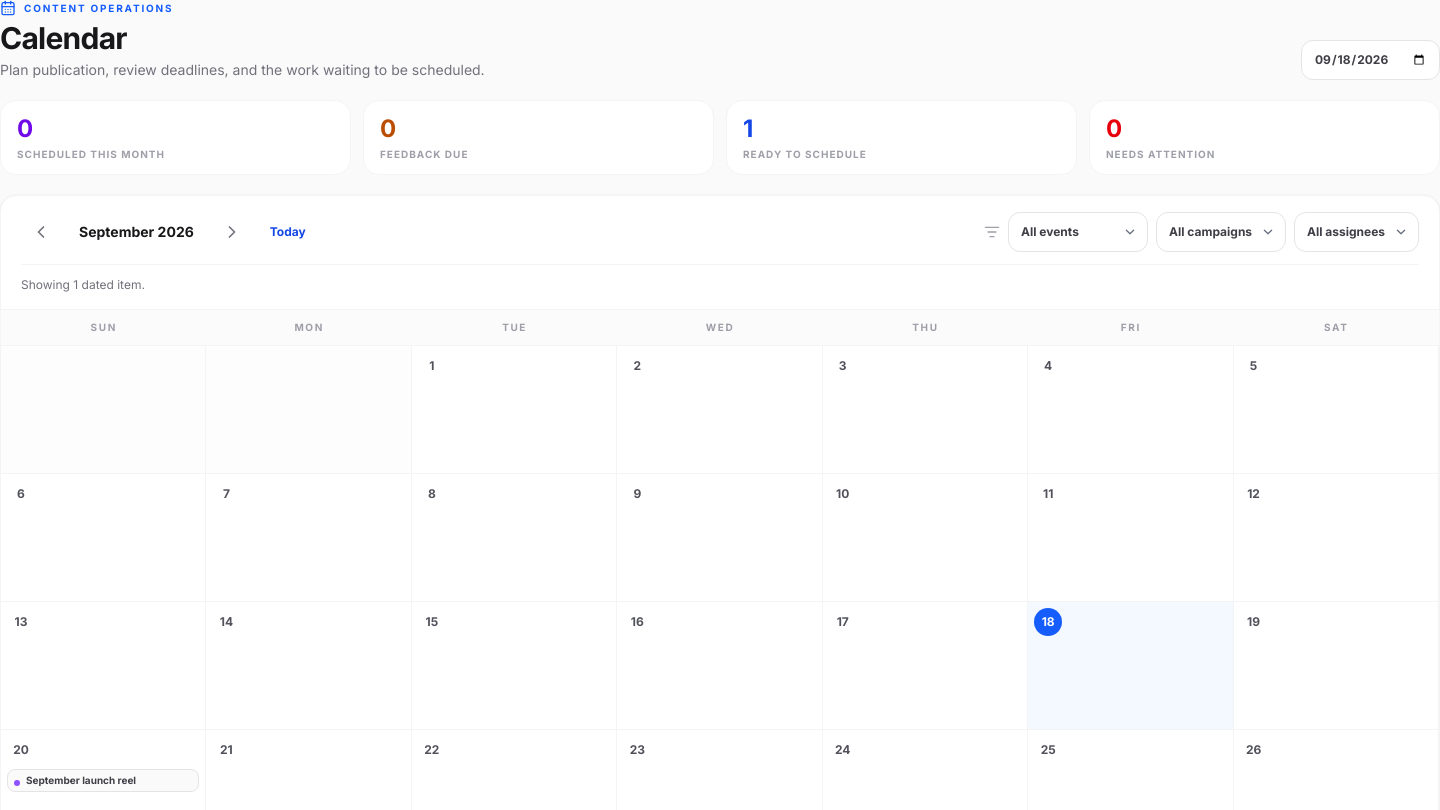
Test case: CalendarView › keeps the selected agenda date inside the month an operator navigates to
The image size is (1440, 810).
Expected: the date field named "Jump to date" holds "2026-09-18", [1301, 40, 1439, 80]
Click the button named "Show October 2026" at (232, 232), box [212, 212, 252, 252]
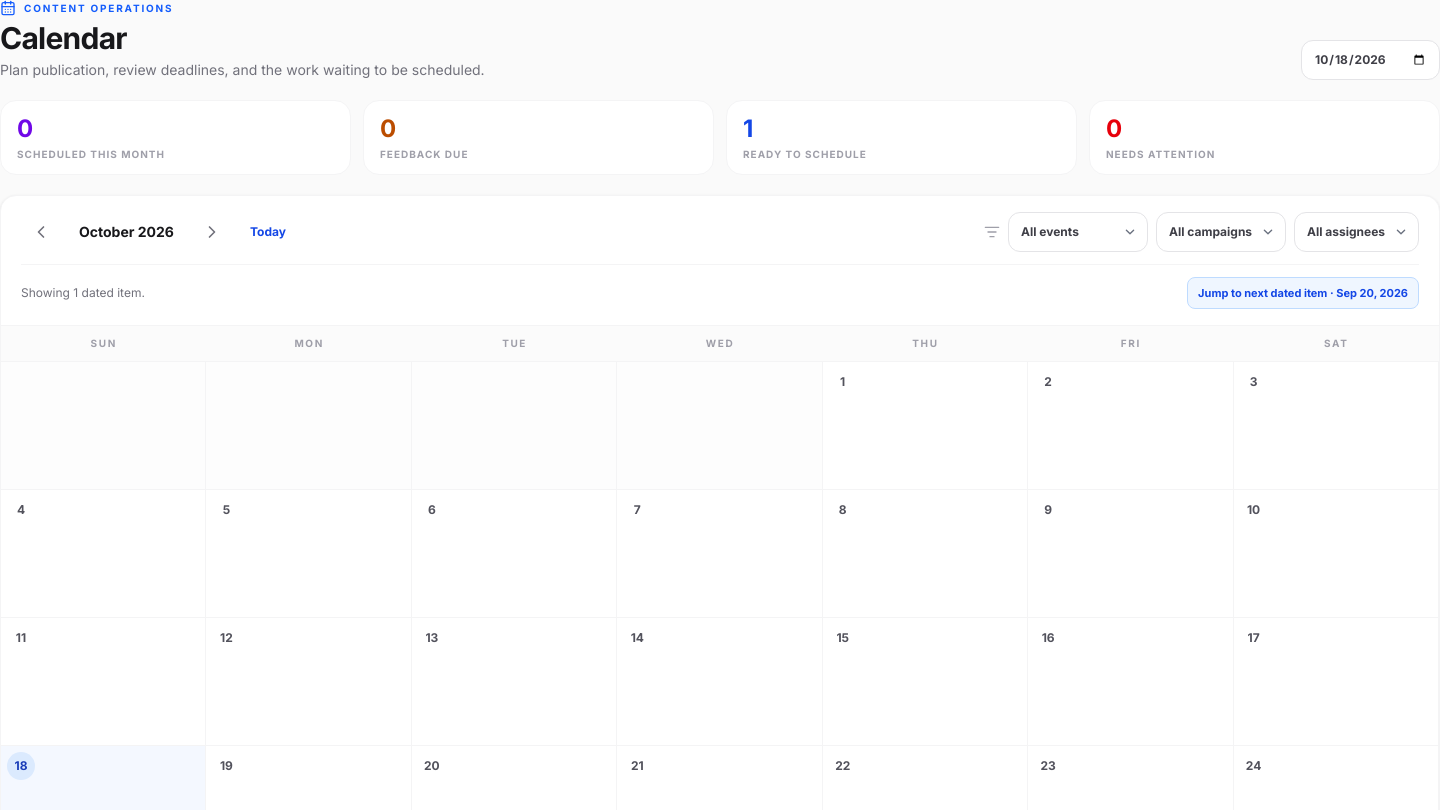
Now the date field named "Jump to date" holds "2026-10-18", box [1301, 40, 1439, 80]
